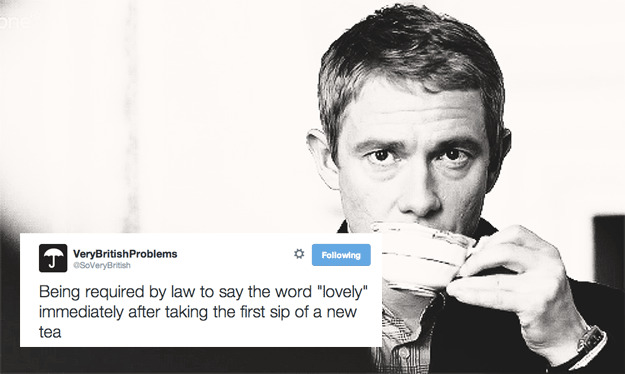drinking: (263, 5, 546, 310)
